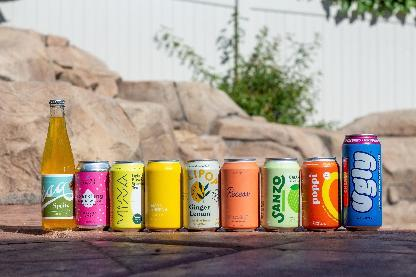Can: (342, 131, 384, 231), (260, 156, 302, 232), (220, 156, 262, 232), (300, 155, 340, 231), (144, 158, 184, 232), (184, 158, 221, 232), (110, 158, 146, 232), (74, 159, 110, 231)
Glass Bottle: (40, 98, 76, 230)
